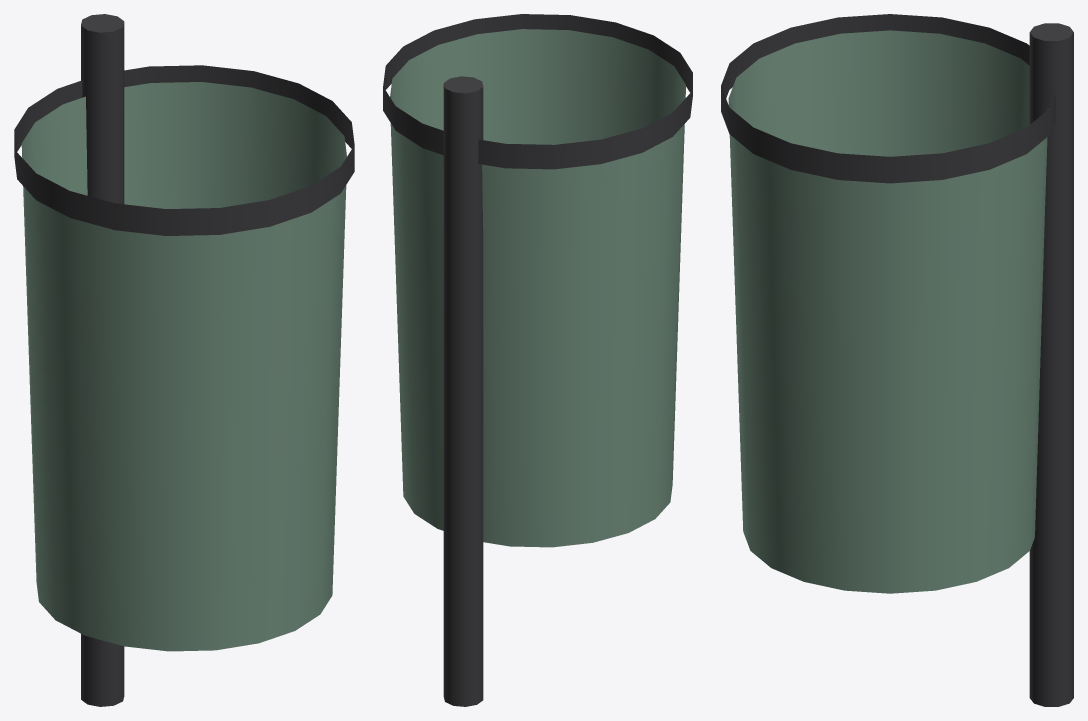
File: trash_bin.glb
The picture shows the model from 3 angles, left to right: view 1: azimuth 30°, elevation 25°; view 2: azimuth 150°, elevation 25°; view 3: azimuth 270°, elevation 25°; orthographic projection. The views are drawn at different scales.
Parts seen in each view (by area): view 1: tint_body, metal_dark; view 2: tint_body, metal_dark; view 3: tint_body, metal_dark.
Part boxes in pixels (left/top/right/bottom): tint_body: left=21, top=82, right=346, bottom=651; metal_dark: left=14, top=14, right=354, bottom=706; tint_body: left=390, top=29, right=685, bottom=547; metal_dark: left=383, top=14, right=692, bottom=706; tint_body: left=728, top=30, right=1048, bottom=593; metal_dark: left=721, top=14, right=1073, bottom=706.
Bounding box in the file's own units: 0.46 × 1 × 0.48.
